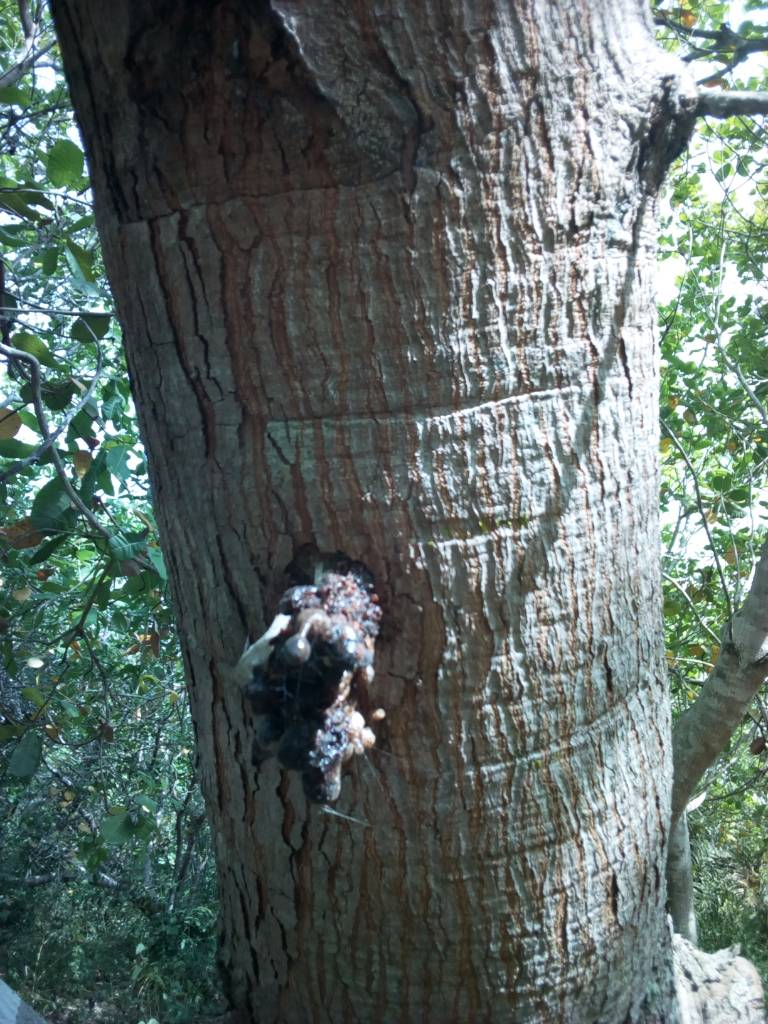Apate terebrans: (196, 550, 446, 821)
